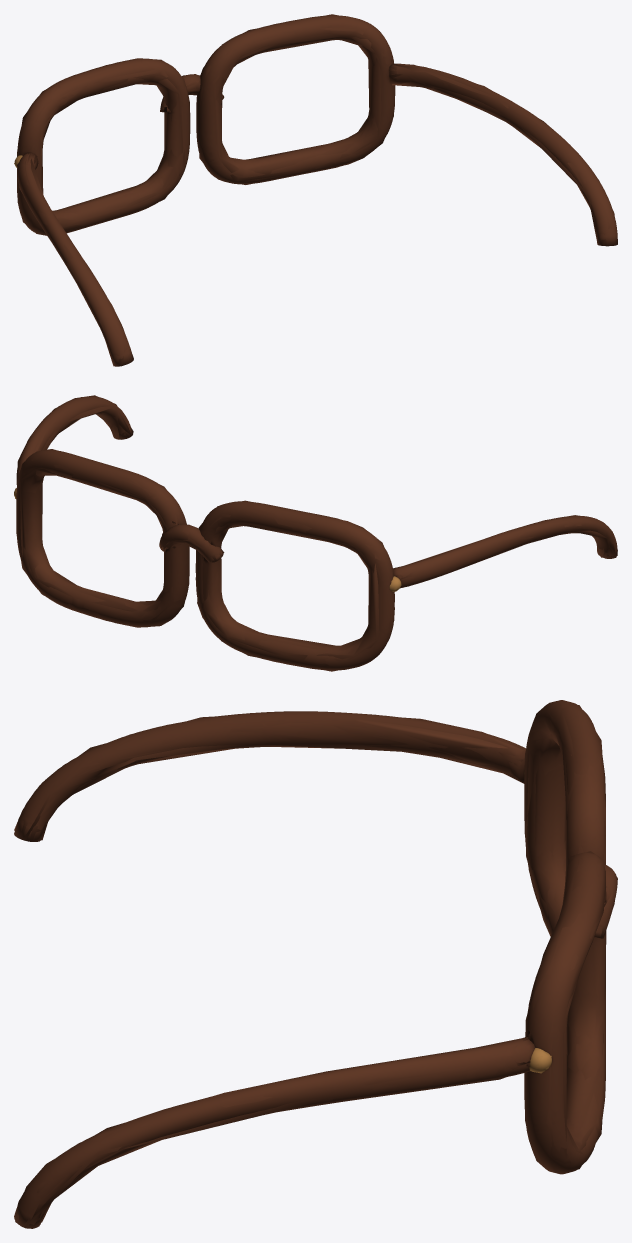
File: square-glasses.glb
3 renders of one model, top to bottom at view 1: azimuth 30°, elevation 25°; view 2: azimuth 150°, elevation 25°; view 3: azimuth 270°, elevation 25°, orthographic. The views are drawn at different scales.
Parts seen in each view (by area): view 1: near, mid, far; view 2: near, far, mid; view 3: near, far, mid.
Part boxes in pixels (x1=…): near: x1=14, y1=15, x2=617, y2=366; mid: x1=14, y1=16, x2=617, y2=366; far: x1=14, y1=14, x2=616, y2=366; near: x1=14, y1=396, x2=617, y2=670; far: x1=15, y1=395, x2=617, y2=671; mid: x1=14, y1=397, x2=617, y2=670; near: x1=14, y1=700, x2=617, y2=1228; far: x1=14, y1=701, x2=617, y2=1228; mid: x1=14, y1=700, x2=617, y2=1228.
Size of the model in its own units: 1.09 by 0.3121 by 0.6892.
2 materials, 2 textured.
